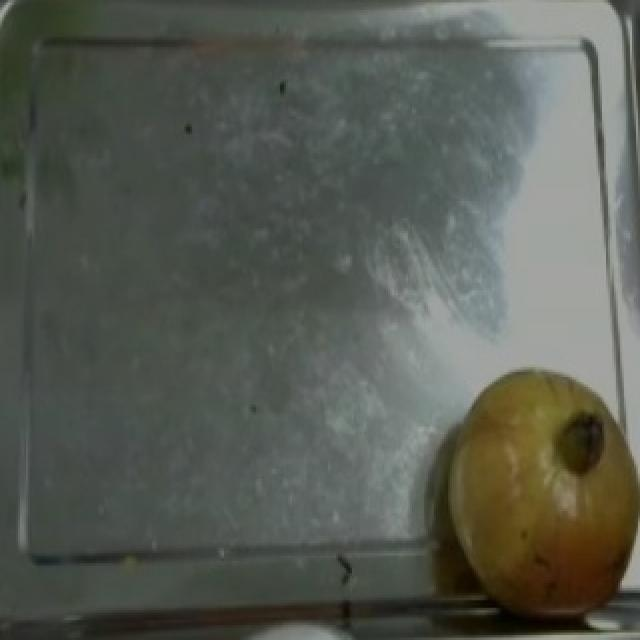fruit: (430, 350, 638, 605)
